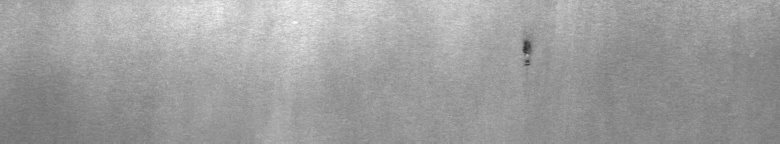fi: (515, 32, 540, 73)
